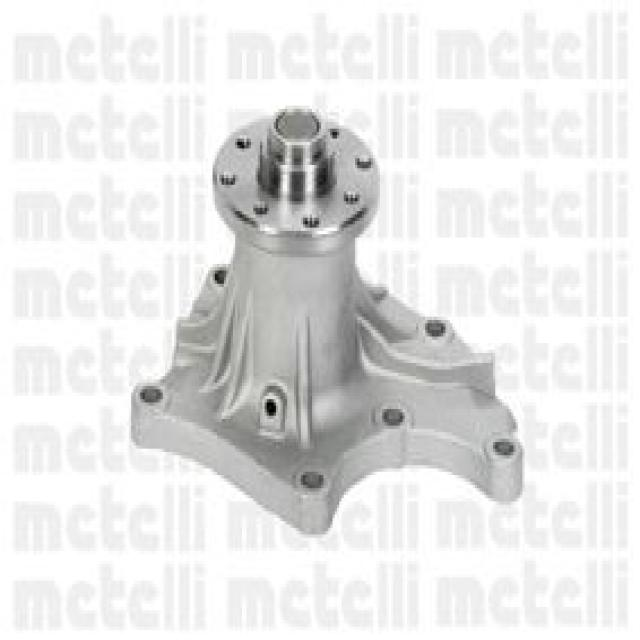video2: (125, 99, 527, 541)
